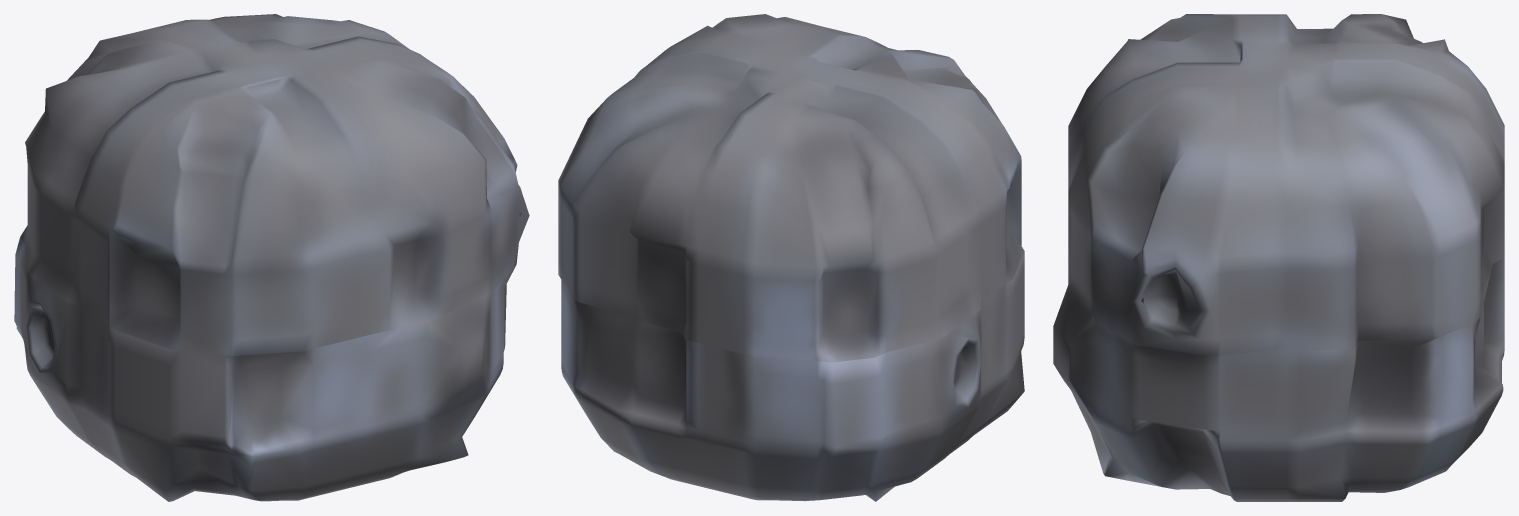
Rendered from rock.fbx.
The picture shows the model from 3 angles, left to right: view 1: azimuth 30°, elevation 25°; view 2: azimuth 150°, elevation 25°; view 3: azimuth 270°, elevation 25°; orthographic projection. The views are drawn at different scales.
Visible parts, largest first — view 1: pCube1; view 2: pCube1; view 3: pCube1.
Part boxes in pixels (x1,y1,x2,y2): pCube1: (14, 14, 529, 501); pCube1: (558, 14, 1024, 501); pCube1: (1053, 14, 1504, 501).
Bounding box in the file's own units: 19.57 × 17.59 × 18.44.
Materials: 1 (1 with a texture image).
